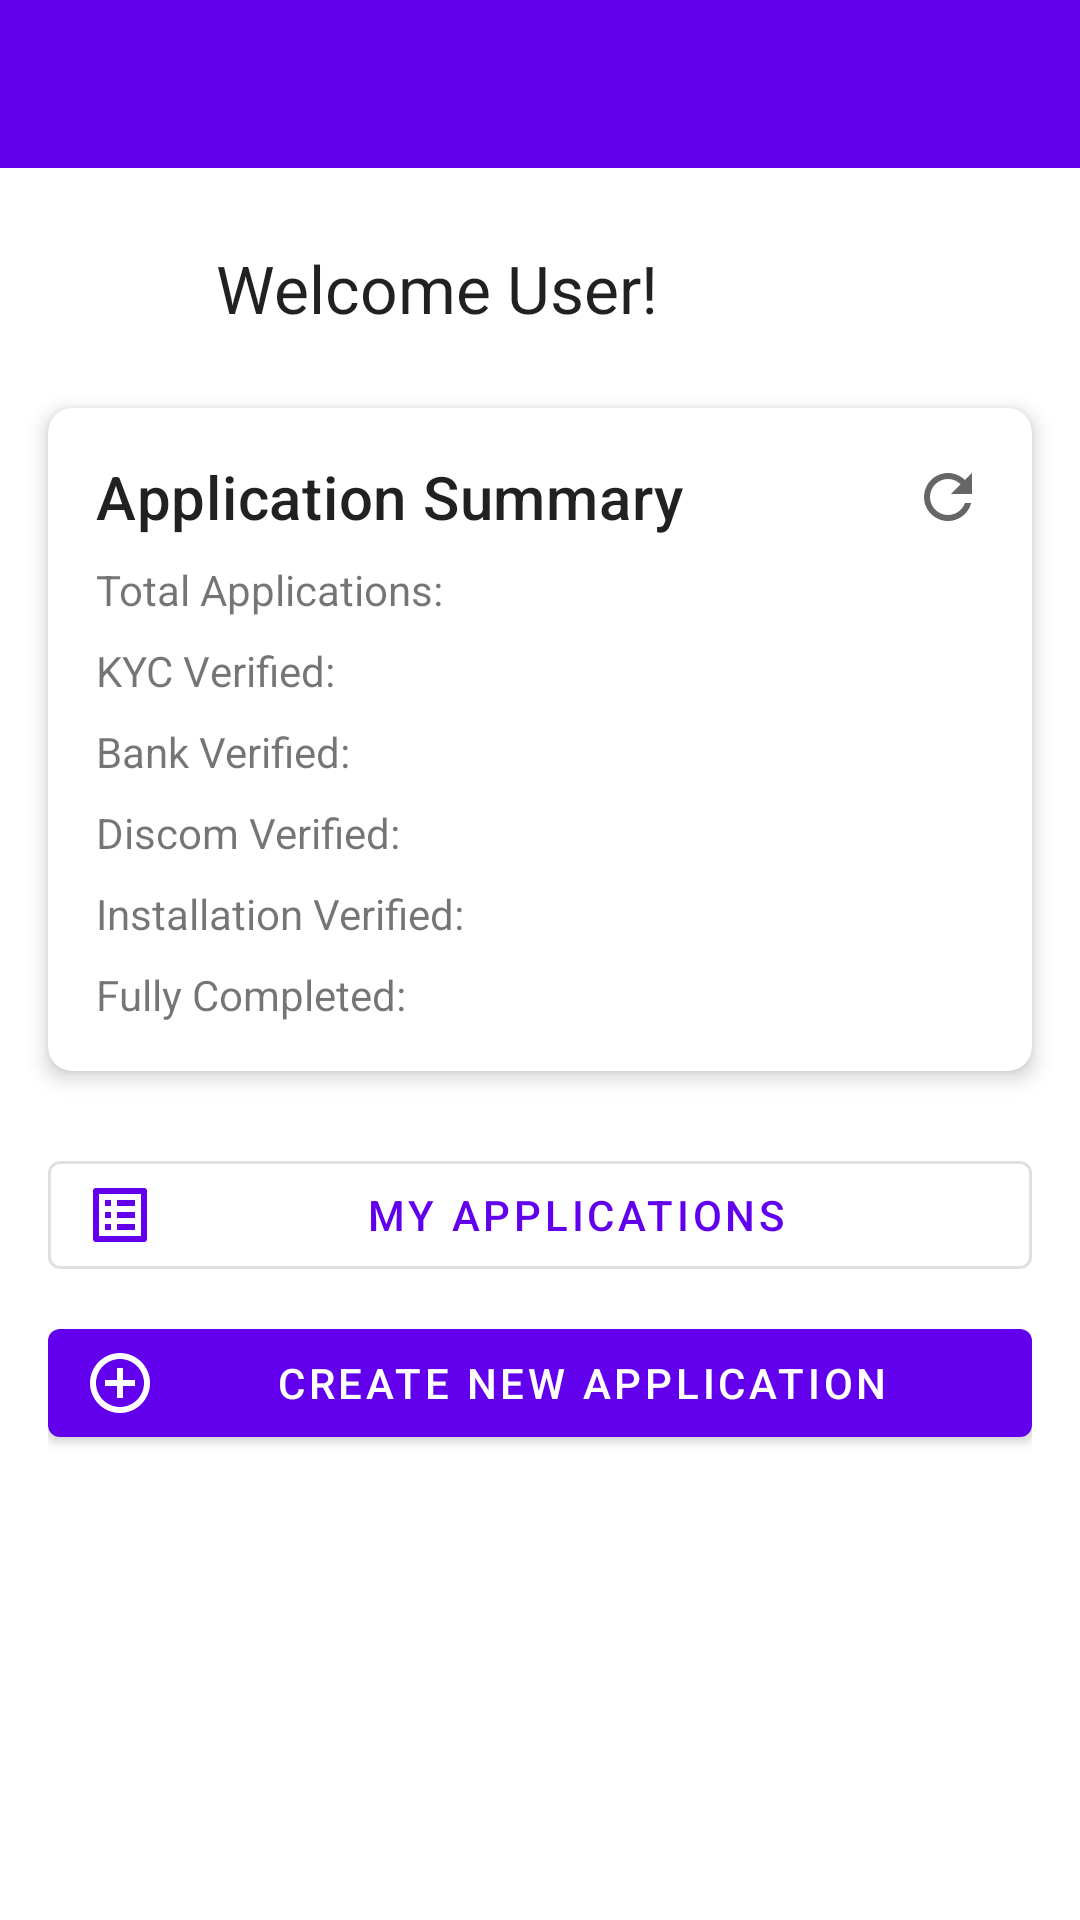

Point at icon controls on the screen. Image size 1080×1920, points as point (x, y).
Refresh Stats: point (948, 497)
